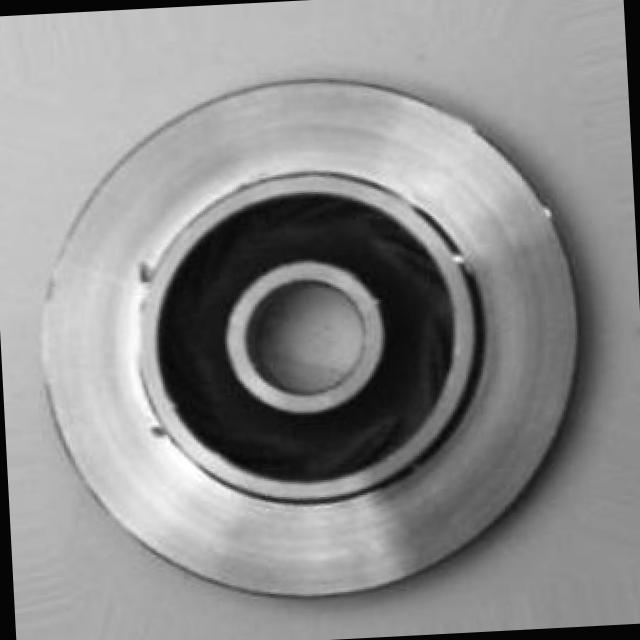Defect: (118, 245, 160, 300)
